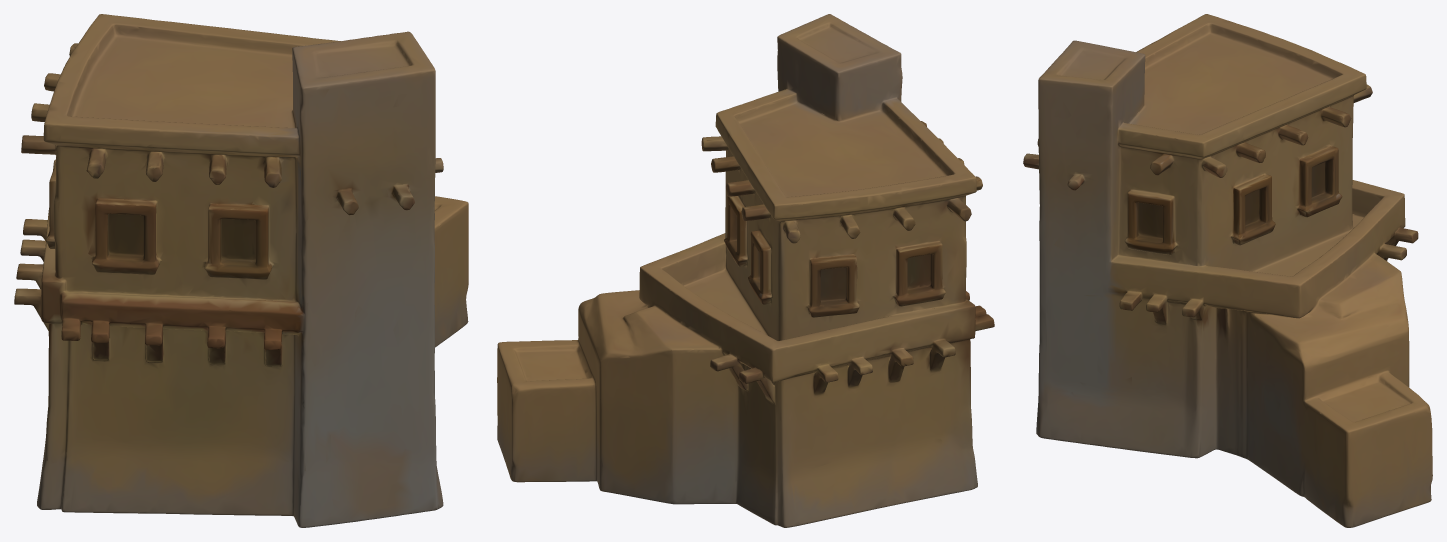
The model's file is building-8.fbx.
3 views of the same model, side by side, from view 1: azimuth 30°, elevation 25°; view 2: azimuth 150°, elevation 25°; view 3: azimuth 270°, elevation 25° (orthographic). The views are drawn at different scales.
Parts seen in each view (by area): view 1: image_Stylized_architectural_model_of_a_building_Hunyuan_3D.; view 2: image_Stylized_architectural_model_of_a_building_Hunyuan_3D.; view 3: image_Stylized_architectural_model_of_a_building_Hunyuan_3D..
Boxes of the visible parts, bbox=[...] form: image_Stylized_architectural_model_of_a_building_Hunyuan_3D.: bbox=[14, 14, 468, 527]; image_Stylized_architectural_model_of_a_building_Hunyuan_3D.: bbox=[497, 14, 994, 527]; image_Stylized_architectural_model_of_a_building_Hunyuan_3D.: bbox=[1023, 14, 1432, 527].
Size of the model in its own units: 3724 by 3063 by 3140.
